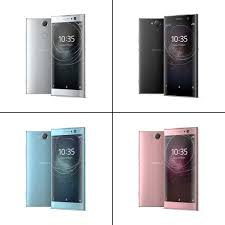sony: (48, 126, 88, 212), (48, 13, 88, 99), (160, 13, 200, 99), (159, 127, 199, 213)
